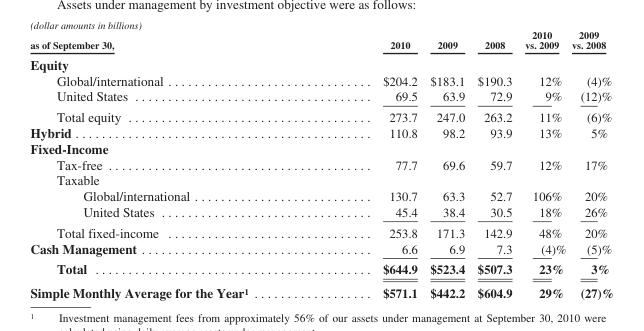table: (29, 28, 613, 299)
table column: (29, 28, 314, 299), (314, 28, 423, 299), (517, 28, 568, 299), (423, 28, 470, 299), (470, 28, 517, 299), (568, 28, 613, 299)
table column header: (29, 28, 613, 53)
table projected row header: (29, 53, 613, 72), (29, 140, 613, 156), (29, 172, 613, 187)
table row: (29, 28, 613, 53), (29, 258, 613, 280), (29, 53, 613, 72), (29, 221, 613, 240), (29, 280, 613, 299), (29, 88, 613, 106), (29, 106, 613, 124), (29, 203, 613, 221), (29, 240, 613, 258), (29, 72, 613, 88), (29, 124, 613, 140), (29, 140, 613, 156), (29, 156, 613, 172), (29, 187, 613, 203), (29, 172, 613, 187)
